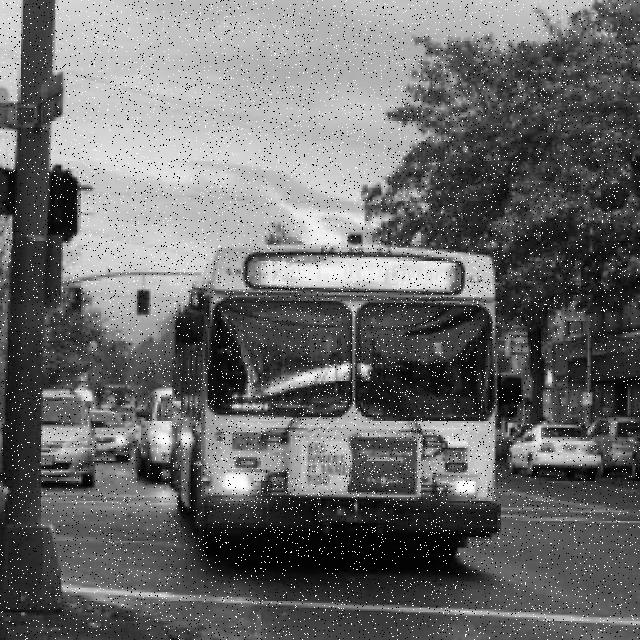Bus: (169, 244, 501, 557)
